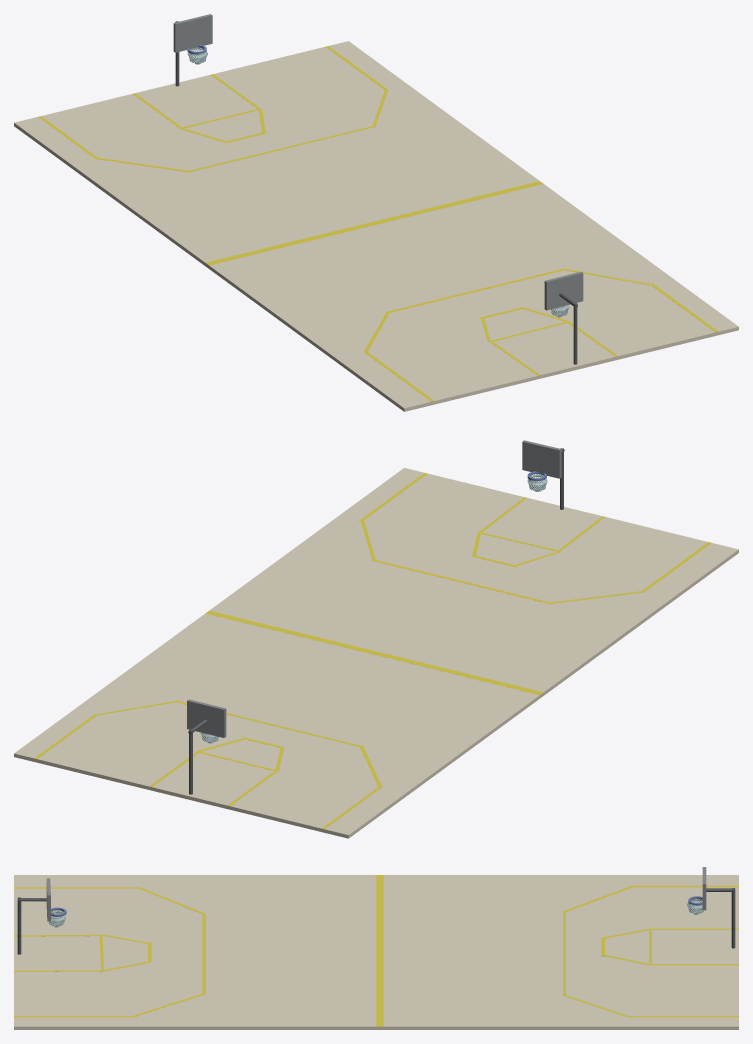
The model's file is basketball_court_full.glb.
3 renders of one model, top to bottom at view 1: azimuth 30°, elevation 25°; view 2: azimuth 150°, elevation 25°; view 3: azimuth 270°, elevation 25°, orthographic. The views are drawn at different scales.
Parts seen in each view (by area): view 1: Mesh_Mesh_head_geo.001_lambert2SG.001_0; view 2: Mesh_Mesh_head_geo.001_lambert2SG.001_0; view 3: Mesh_Mesh_head_geo.001_lambert2SG.001_0.
Boxes of the visible parts, x1,y1,x2,y2 form: Mesh_Mesh_head_geo.001_lambert2SG.001_0: [14, 14, 738, 411]; Mesh_Mesh_head_geo.001_lambert2SG.001_0: [14, 440, 738, 838]; Mesh_Mesh_head_geo.001_lambert2SG.001_0: [14, 867, 738, 1029].
Size of the model in its own units: 99 by 23 by 200.
